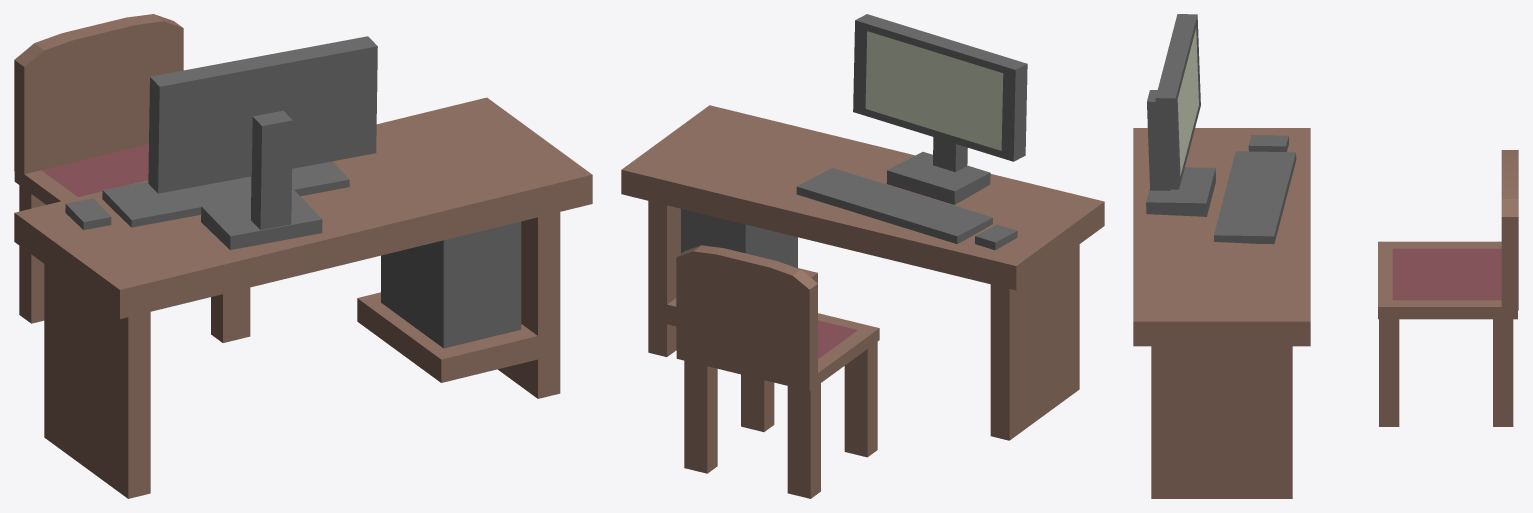
Rendered from table pc.gltf.
3 renders of one model, left to right at view 1: azimuth 30°, elevation 25°; view 2: azimuth 150°, elevation 25°; view 3: azimuth 270°, elevation 25°, orthographic. The views are drawn at different scales.
Visible parts, largest first — view 1: Cube, Cube.007, Cube.016, Cube.002, Cube.004, Cube.001, Cube.003, Cube.008, Cube.006, Cube.014, Cube.005, Cube.012 (+2 smaller); view 2: Cube, Cube.007, Cube.016, Cube.002, Cube.008, Cube.001, Cube.014, Cube.004, Cube.012, Cube.013, Cube.011, Cube.005 (+3 smaller); view 3: Cube, Cube.001, Cube.014, Cube.007, Cube.008, Cube.016, Cube.005, Cube.010, Cube.013, Cube.006, Cube.009.
Boxes of the visible parts, x1=… form: Cube: x1=14, y1=97, x2=592, y2=319; Cube.007: x1=148, y1=36, x2=377, y2=193; Cube.016: x1=14, y1=14, x2=183, y2=175; Cube.002: x1=44, y1=264, x2=150, y2=498; Cube.004: x1=381, y1=221, x2=521, y2=348; Cube.001: x1=498, y1=212, x2=560, y2=398; Cube.003: x1=357, y1=292, x2=537, y2=382; Cube.008: x1=102, y1=161, x2=349, y2=227; Cube.006: x1=250, y1=110, x2=292, y2=229; Cube.014: x1=14, y1=144, x2=148, y2=204; Cube.005: x1=201, y1=189, x2=322, y2=249; Cube.012: x1=19, y1=185, x2=45, y2=323; Cube: x1=621, y1=105, x2=1104, y2=290; Cube.007: x1=853, y1=14, x2=1027, y2=161; Cube.016: x1=676, y1=245, x2=817, y2=382; Cube.002: x1=990, y1=244, x2=1079, y2=440; Cube.008: x1=796, y1=168, x2=992, y2=243; Cube.001: x1=648, y1=201, x2=680, y2=356; Cube.014: x1=676, y1=313, x2=879, y2=391; Cube.004: x1=681, y1=209, x2=797, y2=268; Cube.012: x1=787, y1=383, x2=820, y2=498; Cube.013: x1=684, y1=360, x2=717, y2=473; Cube.011: x1=844, y1=342, x2=877, y2=457; Cube.005: x1=886, y1=152, x2=990, y2=204; Cube: x1=1133, y1=128, x2=1310, y2=346; Cube.001: x1=1151, y1=346, x2=1292, y2=498; Cube.014: x1=1378, y1=241, x2=1517, y2=319; Cube.007: x1=1155, y1=14, x2=1200, y2=189; Cube.008: x1=1214, y1=151, x2=1296, y2=244; Cube.016: x1=1501, y1=150, x2=1518, y2=310; Cube.005: x1=1146, y1=167, x2=1215, y2=216; Cube.010: x1=1379, y1=319, x2=1399, y2=426; Cube.013: x1=1493, y1=319, x2=1513, y2=426; Cube.006: x1=1147, y1=90, x2=1170, y2=190; Cube.009: x1=1248, y1=135, x2=1288, y2=151.
Size of the model in its own units: 6.49 by 5.12 by 5.46.
